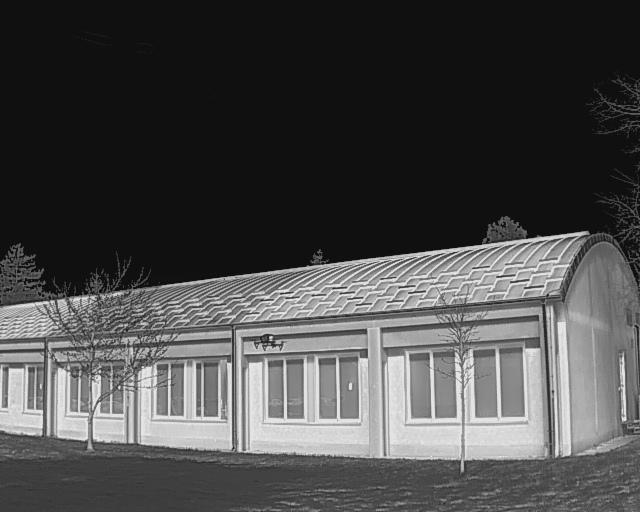drone: (250, 332, 292, 354)
